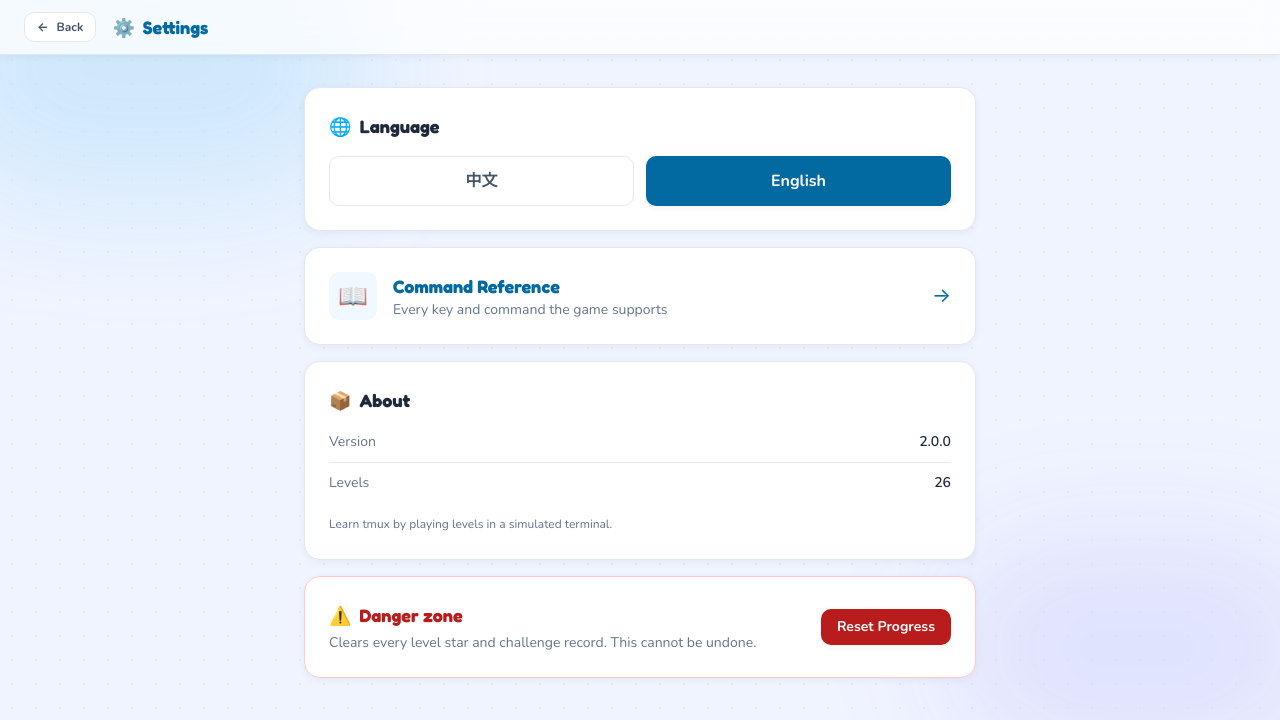
Test: SettingsScreen › keeps the progress when Escape closes the question
The image size is (1280, 720).
Click the button "Reset Progress". click: coordinates (886, 626)
box: [821,608,951,644]
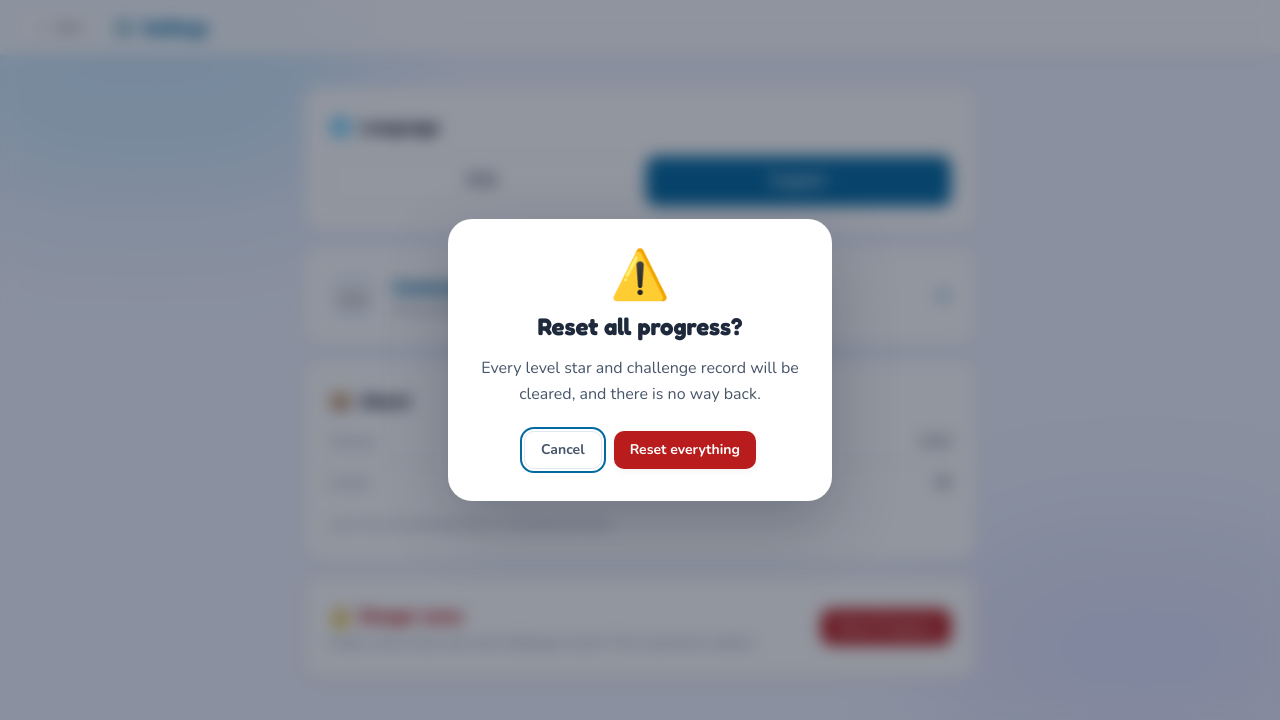
Press Escape
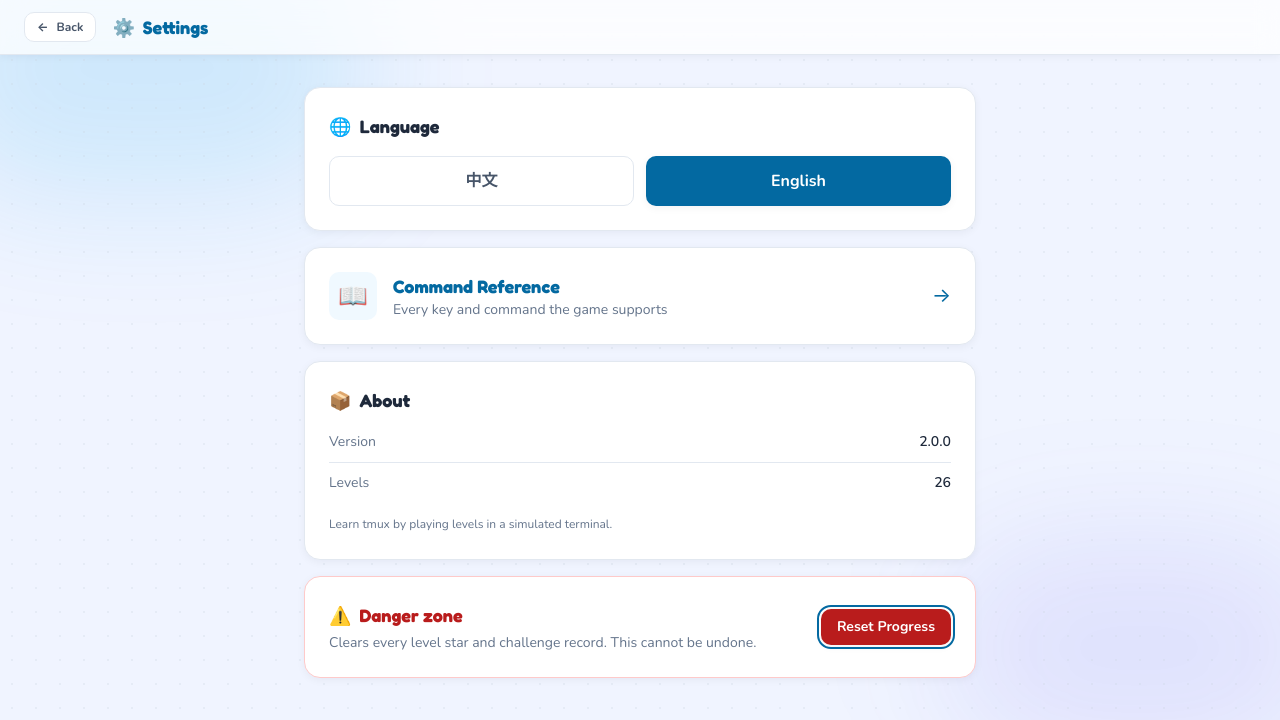
Expected: the dialog is gone
